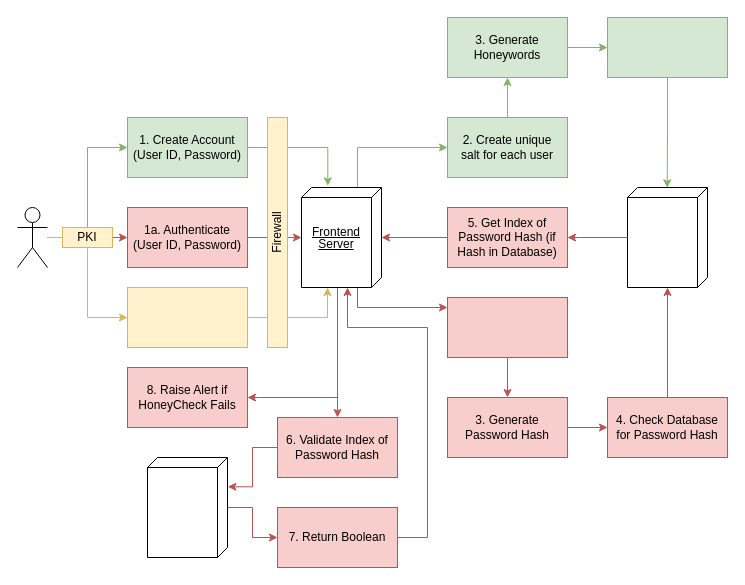
Some shapes in this 745 by 585 pixel diagram are drawn without their labels. The box of each missing label's shape, as (x1, y1, x2, y2) in pixels:
1b. Multi-Factor Authentication (MFA): (126, 286, 248, 348)
2. Get User Salt: (446, 296, 568, 358)
4. Hashing: (606, 16, 728, 78)
Frontend Server Database: (626, 186, 708, 288)
Honey-C hecker: (146, 456, 228, 558)
Users: (16, 206, 48, 268)
